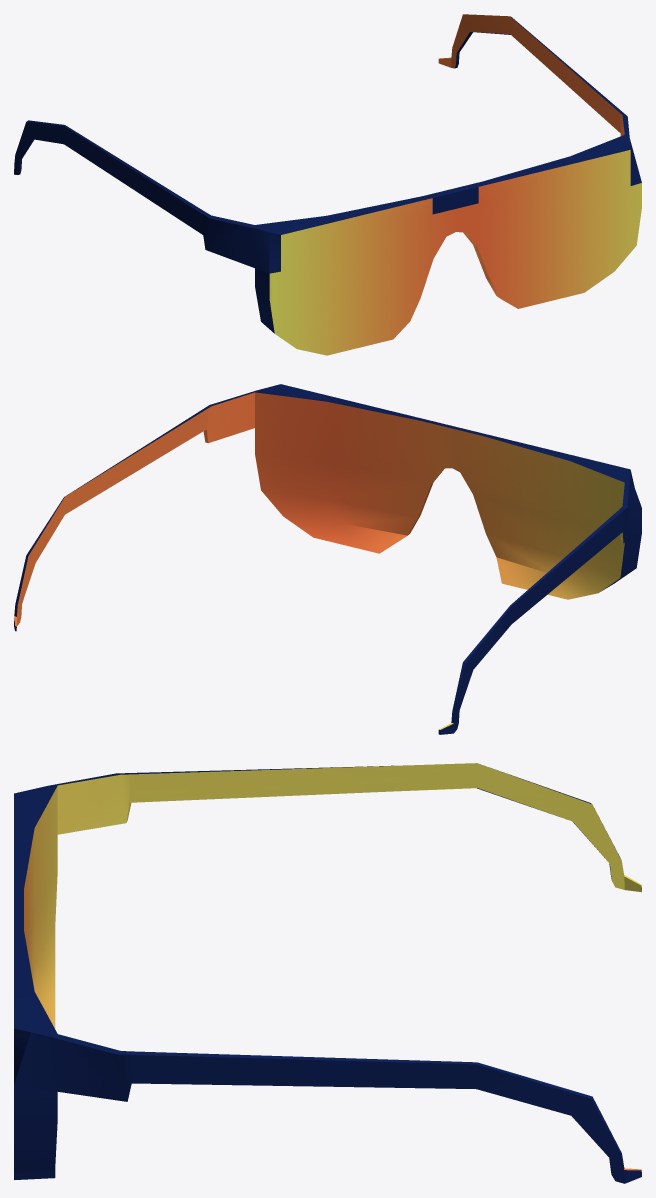
Rendered from riffRaff.glb.
3 views of the same model, one above another, from view 1: azimuth 30°, elevation 25°; view 2: azimuth 150°, elevation 25°; view 3: azimuth 270°, elevation 25° (orthographic). The views are drawn at different scales.
Visible parts, largest first — view 1: Blue Vipers; view 2: Blue Vipers; view 3: Blue Vipers.
Part boxes in pixels (x1,y1,x2,y2): Blue Vipers: [14, 14, 641, 355]; Blue Vipers: [14, 384, 641, 734]; Blue Vipers: [14, 763, 641, 1183].
Bounding box in the file's own units: 0.2372 × 0.0672 × 0.2092.
2 materials, 1 textured.
